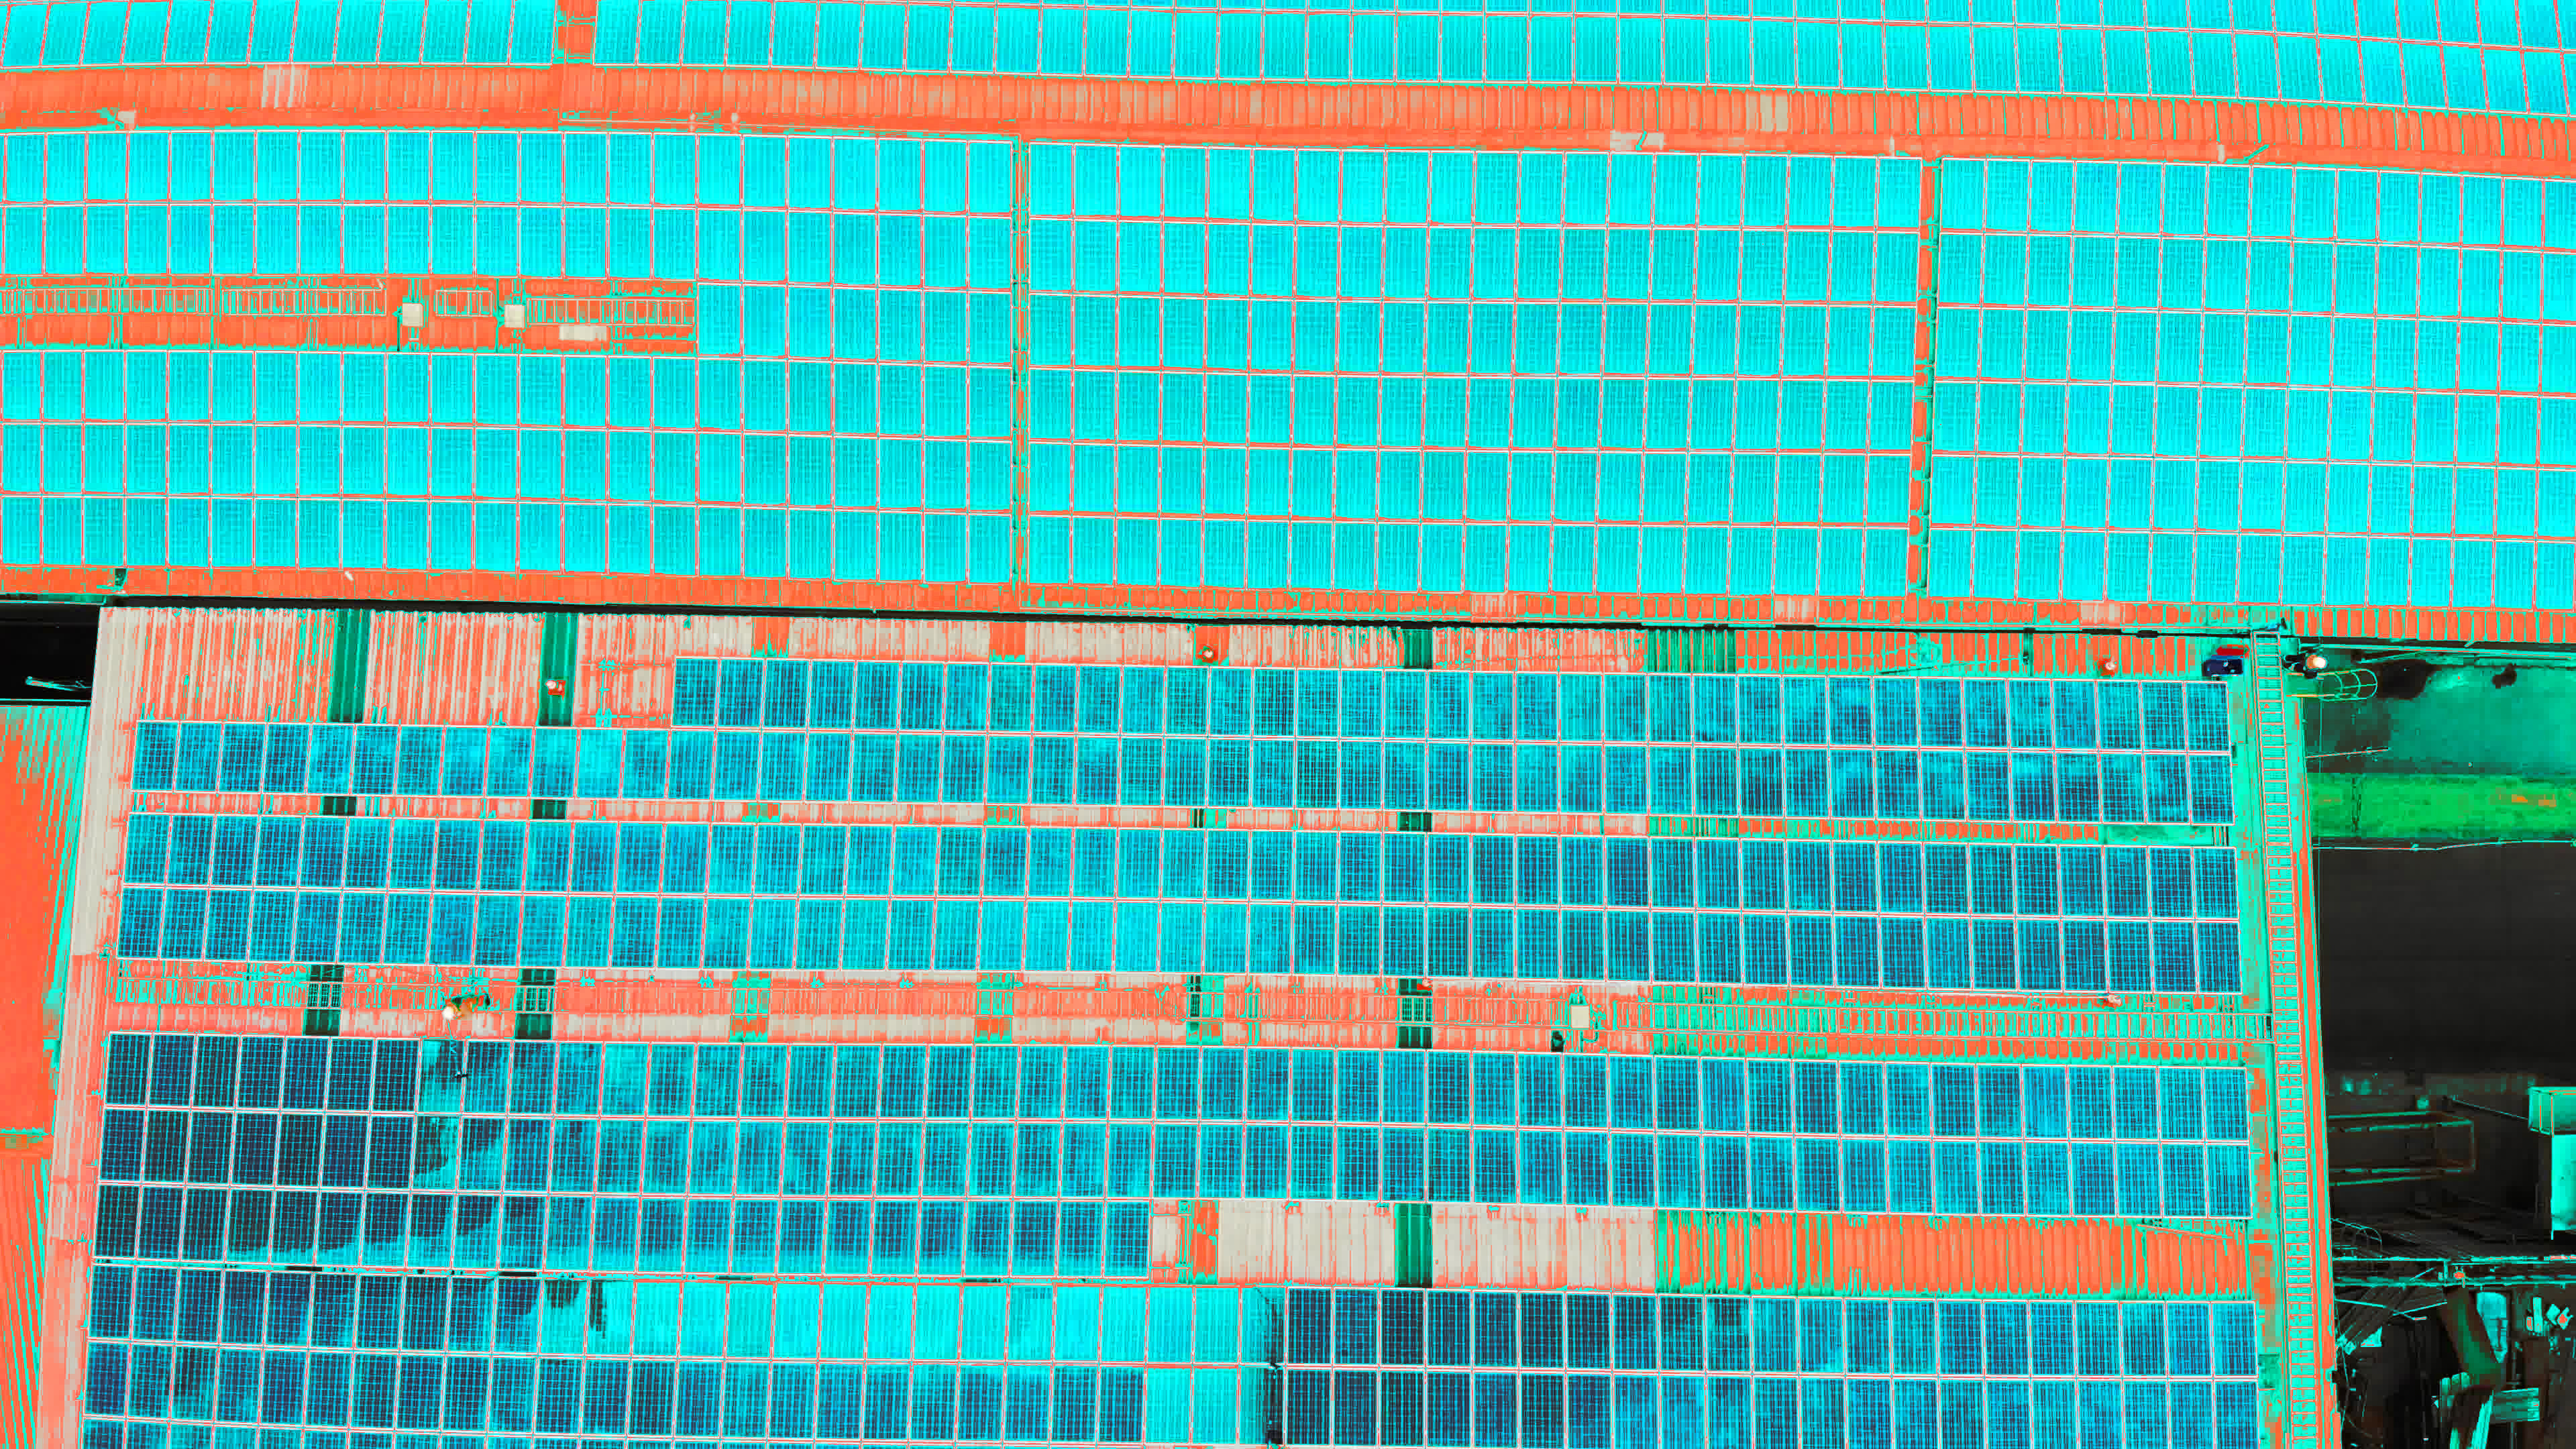clean: (1426, 1293, 1470, 1368), (1380, 1292, 1424, 1366), (1288, 1290, 1332, 1364), (1566, 1375, 1610, 1449), (359, 1277, 403, 1352), (179, 1269, 223, 1343), (133, 1263, 177, 1338), (138, 1185, 182, 1260), (1428, 1373, 1472, 1445), (101, 1108, 145, 1180), (320, 1113, 364, 1185), (1661, 1297, 1704, 1371), (1568, 1295, 1610, 1369), (1520, 1293, 1562, 1368), (1334, 1371, 1376, 1445), (1474, 1373, 1516, 1447), (1522, 1375, 1564, 1449), (1288, 1369, 1330, 1444), (400, 1355, 442, 1430), (354, 1355, 396, 1430), (308, 1352, 350, 1426), (260, 1350, 303, 1424), (129, 1345, 172, 1419), (310, 1276, 352, 1350), (269, 1274, 311, 1348), (223, 1270, 265, 1345), (92, 1263, 134, 1338), (361, 1191, 403, 1265), (313, 1191, 356, 1265), (271, 1189, 313, 1263), (226, 1191, 269, 1265), (225, 1189, 267, 1263), (96, 1182, 138, 1256), (278, 1111, 320, 1185), (373, 1039, 416, 1113), (368, 1111, 410, 1185), (327, 1037, 370, 1111), (285, 1035, 327, 1109), (147, 1033, 189, 1108), (106, 1031, 149, 1106), (1614, 1299, 1656, 1371), (1472, 1293, 1514, 1366), (1338, 1290, 1380, 1362), (1380, 1373, 1422, 1445), (87, 1341, 129, 1414), (405, 1277, 448, 1350), (180, 1187, 223, 1260), (145, 1109, 188, 1182), (193, 1111, 235, 1184), (235, 1109, 278, 1182), (239, 1033, 281, 1106), (195, 1031, 237, 1104)
dirty: (632, 1279, 679, 1357), (913, 1286, 961, 1362), (865, 1286, 913, 1362), (819, 1283, 867, 1359), (773, 1281, 821, 1357), (722, 1281, 770, 1357), (679, 1283, 727, 1359), (538, 1277, 586, 1353), (589, 1277, 635, 1355), (980, 897, 1024, 971), (1240, 1288, 1284, 1362), (1146, 1290, 1191, 1364), (616, 821, 660, 895), (483, 817, 527, 892), (299, 816, 343, 890), (122, 814, 166, 888), (522, 893, 566, 968), (205, 886, 249, 961), (161, 888, 205, 962), (1024, 899, 1069, 971), (931, 899, 975, 971), (1240, 1371, 1284, 1444), (1191, 1369, 1235, 1442), (1008, 1288, 1053, 1361), (166, 814, 211, 886), (1203, 901, 1246, 975), (1159, 899, 1201, 973), (1115, 897, 1157, 971), (1072, 899, 1115, 973), (890, 897, 932, 971), (842, 897, 885, 971), (892, 828, 934, 902), (752, 895, 794, 970), (708, 895, 750, 970), (1146, 1369, 1189, 1444), (1194, 1292, 1237, 1366), (1102, 1288, 1145, 1362), (1056, 1292, 1099, 1366), (962, 1288, 1005, 1362), (709, 824, 752, 899), (662, 824, 704, 899), (568, 821, 610, 895), (527, 817, 570, 892), (435, 817, 478, 892), (391, 817, 433, 892), (349, 816, 391, 890), (257, 816, 299, 890), (616, 895, 658, 970), (568, 892, 610, 966), (476, 892, 518, 966), (341, 890, 384, 964), (299, 892, 341, 966), (255, 892, 297, 966), (122, 886, 165, 961), (1985, 157, 2029, 228), (1511, 377, 1555, 448), (924, 216, 968, 287), (430, 499, 474, 570), (798, 899, 840, 971), (211, 814, 253, 886), (656, 897, 699, 970), (432, 892, 474, 964), (386, 893, 428, 966), (2459, 177, 2503, 246), (2376, 172, 2420, 241), (2118, 165, 2162, 234), (2374, 244, 2419, 313), (2291, 242, 2335, 311), (2249, 241, 2293, 310), (2204, 239, 2249, 308), (2116, 235, 2160, 304), (2371, 318, 2415, 387), (2201, 313, 2245, 382), (1980, 306, 2024, 375), (1936, 308, 1980, 377), (2496, 395, 2541, 464), (2413, 391, 2457, 460), (2328, 391, 2373, 460), (2199, 387, 2243, 456), (2155, 386, 2199, 455), (2111, 386, 2155, 455), (2109, 458, 2153, 527), (2065, 456, 2109, 525), (1974, 531, 2019, 600), (2194, 533, 2238, 602), (2367, 538, 2411, 607), (1789, 157, 1833, 226), (1562, 154, 1606, 223), (1207, 150, 1251, 219), (1118, 147, 1162, 216), (1874, 232, 1918, 301), (1649, 230, 1693, 299), (1472, 226, 1516, 295), (1116, 223, 1161, 292), (1030, 219, 1074, 288), (1872, 306, 1916, 375), (1647, 303, 1691, 372), (1601, 304, 1645, 373), (1426, 303, 1470, 372), (1338, 303, 1382, 372), (1293, 303, 1338, 372), (1205, 299, 1249, 368), (1732, 379, 1776, 448), (1465, 379, 1509, 448), (1024, 370, 1069, 439), (1819, 455, 1863, 524), (1376, 449, 1421, 518), (1332, 448, 1376, 517), (1819, 529, 1863, 598), (1730, 527, 1775, 596), (1684, 525, 1729, 594), (1594, 525, 1638, 594), (1336, 518, 1380, 587), (1286, 520, 1330, 589), (1072, 513, 1116, 582), (1028, 513, 1072, 582), (922, 143, 966, 212), (784, 138, 828, 207), (697, 136, 741, 205), (433, 133, 478, 202), (299, 131, 343, 200), (964, 218, 1008, 287), (879, 216, 924, 285), (789, 214, 833, 283), (743, 212, 787, 281), (699, 211, 743, 280), (609, 209, 653, 278), (430, 205, 474, 274), (386, 207, 430, 276), (126, 205, 170, 274), (0, 203, 44, 272), (927, 292, 971, 361), (789, 288, 833, 357), (745, 287, 789, 356), (791, 363, 835, 432), (653, 359, 697, 428), (609, 357, 653, 426), (564, 356, 609, 425), (472, 356, 517, 425), (211, 350, 255, 419), (126, 349, 170, 418), (833, 437, 878, 506), (743, 433, 787, 502), (699, 433, 743, 502), (564, 428, 609, 497), (518, 430, 563, 499), (386, 426, 430, 495), (341, 426, 386, 495), (126, 425, 170, 494), (971, 517, 1016, 586), (879, 515, 924, 584), (609, 506, 653, 575), (563, 506, 607, 575), (518, 504, 563, 573), (472, 501, 517, 570), (297, 497, 341, 566), (122, 494, 166, 563), (1748, 19, 1794, 85), (2029, 157, 2072, 228), (2415, 318, 2457, 389), (2289, 313, 2332, 384), (2242, 460, 2284, 531), (2491, 538, 2534, 609), (1474, 152, 1516, 223), (738, 138, 780, 209), (478, 133, 520, 203), (970, 441, 1012, 511), (787, 435, 830, 506), (2502, 179, 2544, 248), (2420, 172, 2463, 241), (2337, 170, 2380, 239), (2293, 168, 2335, 237), (2250, 166, 2293, 235), (2249, 166, 2291, 235), (2206, 165, 2249, 234), (2164, 165, 2206, 234), (2075, 161, 2118, 230), (1939, 159, 1982, 228), (2500, 249, 2542, 318), (2461, 248, 2503, 317), (2417, 246, 2459, 315), (2334, 242, 2376, 311), (2162, 237, 2204, 306), (2074, 237, 2116, 306), (2029, 234, 2072, 303), (1985, 234, 2028, 303), (1937, 234, 1980, 303), (2498, 322, 2541, 391), (2456, 320, 2498, 389), (2330, 318, 2373, 387), (2245, 313, 2288, 382), (2158, 313, 2201, 382), (2112, 310, 2155, 379), (2070, 310, 2112, 379), (2024, 308, 2066, 377), (2456, 395, 2498, 464), (2371, 393, 2413, 462), (2286, 393, 2328, 462), (2243, 389, 2286, 458), (2066, 386, 2109, 455), (2024, 386, 2066, 455), (1978, 384, 2020, 453), (1936, 382, 1978, 451), (2495, 467, 2537, 536), (2454, 465, 2496, 534), (2411, 464, 2454, 533), (2369, 464, 2411, 533), (2327, 464, 2369, 533), (2284, 462, 2327, 531), (2196, 460, 2238, 529), (2155, 460, 2197, 529), (2020, 456, 2063, 525), (1976, 455, 2019, 524), (1932, 453, 1974, 522), (1928, 529, 1971, 598), (2019, 531, 2061, 600), (2061, 531, 2104, 600), (2109, 533, 2151, 602), (2150, 533, 2192, 602), (2238, 534, 2281, 603), (2281, 534, 2323, 603), (2325, 536, 2367, 605), (2410, 536, 2452, 605), (2450, 538, 2493, 607), (1877, 159, 1920, 228), (1833, 157, 1875, 226), (1744, 157, 1787, 226), (1700, 156, 1743, 225), (1654, 154, 1697, 223), (1608, 154, 1651, 223), (1518, 154, 1560, 223), (1431, 154, 1474, 223), (1384, 152, 1426, 221), (1341, 152, 1384, 221), (1299, 152, 1341, 221), (1254, 152, 1297, 221), (1161, 147, 1203, 216), (1076, 145, 1118, 214), (1026, 145, 1069, 214), (1829, 234, 1872, 303), (1787, 234, 1829, 303), (1743, 230, 1785, 299), (1697, 234, 1739, 303), (1605, 232, 1647, 301), (1560, 230, 1603, 299), (1518, 228, 1560, 297), (1426, 228, 1468, 297), (1384, 228, 1426, 297), (1341, 228, 1384, 297), (1297, 230, 1339, 299), (1249, 225, 1292, 294), (1205, 223, 1247, 292), (1164, 225, 1207, 294), (1076, 219, 1118, 288), (1829, 304, 1872, 373), (1783, 303, 1826, 372), (1739, 308, 1782, 377), (1693, 304, 1736, 373), (1560, 304, 1603, 373), (1516, 304, 1559, 373), (1474, 303, 1516, 372), (1382, 303, 1424, 372), (1251, 301, 1293, 370), (1164, 299, 1207, 368), (1118, 297, 1161, 366), (1072, 297, 1115, 366), (1030, 295, 1072, 364), (1870, 382, 1913, 451), (1822, 380, 1865, 449), (1778, 380, 1821, 449), (1690, 380, 1732, 449), (1644, 379, 1686, 448), (1599, 379, 1642, 448), (1555, 379, 1598, 448), (1421, 377, 1463, 446), (1380, 379, 1422, 448), (1336, 375, 1378, 444), (1292, 373, 1334, 442), (1249, 375, 1292, 444), (1203, 370, 1246, 439), (1159, 373, 1201, 442), (1116, 372, 1159, 441), (1072, 372, 1115, 441), (1867, 455, 1909, 524), (1780, 456, 1822, 525), (1732, 455, 1775, 524), (1686, 451, 1729, 520), (1640, 453, 1683, 522), (1598, 451, 1640, 520), (1550, 453, 1592, 522), (1507, 451, 1550, 520), (1461, 449, 1504, 518), (1419, 449, 1461, 518), (1292, 448, 1334, 517), (1249, 446, 1292, 515), (1205, 446, 1247, 515), (1159, 444, 1201, 513), (1074, 444, 1116, 513), (1115, 444, 1157, 513), (1028, 442, 1070, 511), (1863, 524, 1905, 593), (1775, 527, 1817, 596), (1640, 525, 1683, 594), (1553, 525, 1596, 594), (1507, 524, 1550, 593), (1465, 522, 1507, 591), (1421, 524, 1463, 593), (1378, 524, 1421, 593), (1246, 517, 1288, 586), (1201, 518, 1244, 587), (1161, 517, 1203, 586), (1116, 517, 1159, 586), (966, 145, 1008, 214), (879, 142, 922, 211), (832, 140, 874, 209), (694, 136, 736, 205), (651, 138, 694, 207), (610, 136, 653, 205), (563, 136, 605, 205), (520, 134, 563, 203), (389, 131, 432, 200), (345, 131, 387, 200), (257, 131, 299, 200), (212, 133, 255, 202), (170, 131, 212, 200), (124, 131, 166, 200), (87, 131, 129, 200), (46, 131, 88, 200), (4, 131, 46, 200), (835, 214, 878, 283), (655, 209, 697, 278), (566, 207, 609, 276), (520, 205, 563, 274), (476, 203, 518, 272), (345, 205, 387, 274), (301, 203, 343, 272), (257, 203, 299, 272), (211, 203, 253, 272), (172, 202, 214, 271), (87, 203, 129, 272), (44, 203, 87, 272), (971, 294, 1014, 363), (881, 292, 924, 361), (835, 290, 878, 359), (699, 287, 741, 356), (971, 368, 1014, 437), (929, 366, 971, 435), (883, 366, 925, 435), (839, 364, 881, 433), (745, 361, 787, 430), (704, 361, 747, 430), (518, 356, 561, 425), (432, 354, 474, 423), (387, 352, 430, 421), (341, 350, 384, 419), (299, 352, 341, 421), (255, 352, 297, 421), (168, 350, 211, 419), (81, 350, 124, 419), (42, 350, 85, 419), (0, 350, 42, 419), (924, 441, 966, 510), (878, 439, 920, 508), (655, 432, 697, 501), (610, 430, 653, 499), (474, 430, 517, 499), (432, 428, 474, 497), (301, 425, 343, 494), (257, 423, 299, 492), (211, 425, 253, 494), (170, 425, 212, 494), (83, 423, 126, 492), (42, 423, 85, 492), (0, 423, 42, 492), (927, 517, 970, 586), (835, 513, 878, 582), (787, 511, 830, 580), (747, 511, 789, 580), (701, 510, 743, 579), (655, 508, 697, 577), (474, 502, 517, 571), (387, 499, 430, 568), (341, 497, 384, 566), (255, 497, 297, 566), (211, 497, 253, 566), (170, 495, 212, 564), (83, 494, 126, 563), (41, 494, 83, 563), (0, 495, 42, 564), (2523, 50, 2567, 115), (2482, 48, 2526, 113), (2443, 44, 2488, 110), (2360, 42, 2404, 108), (2275, 37, 2319, 103), (2235, 35, 2279, 101), (2190, 34, 2235, 99), (2148, 30, 2192, 96), (2059, 28, 2104, 94), (2015, 27, 2059, 92), (1973, 27, 2017, 92), (1925, 25, 1969, 90), (1884, 25, 1928, 90), (1660, 16, 1704, 81), (1619, 16, 1663, 81), (1575, 16, 1619, 81), (1529, 16, 1573, 81), (1484, 16, 1529, 81), (1438, 14, 1483, 80), (1396, 14, 1440, 80), (1306, 14, 1350, 80), (1258, 12, 1302, 78), (1215, 12, 1260, 78), (1127, 12, 1171, 78), (1083, 9, 1127, 74), (1040, 9, 1085, 74), (952, 7, 996, 73), (908, 5, 952, 71), (862, 4, 906, 69), (771, 2, 816, 67), (729, 0, 773, 65), (685, 2, 729, 67), (639, 0, 683, 65), (594, 2, 639, 67), (510, 0, 554, 65), (469, 2, 513, 67), (423, 0, 467, 65), (380, 2, 425, 67), (336, 0, 380, 65), (295, 2, 340, 67), (251, 0, 295, 65), (209, 2, 253, 67), (165, 0, 209, 65), (124, 2, 168, 67), (87, 0, 131, 65), (44, 2, 88, 67), (4, 4, 48, 69), (2403, 44, 2447, 108), (2319, 39, 2364, 103), (2104, 30, 2148, 94), (1838, 25, 1882, 88), (1796, 23, 1840, 87), (1707, 19, 1752, 83), (1352, 14, 1396, 78), (1175, 14, 1219, 78), (996, 9, 1040, 73), (819, 4, 863, 67), (2537, 467, 2574, 540), (2539, 541, 2574, 610), (2542, 251, 2576, 322), (2542, 324, 2576, 395), (2541, 395, 2574, 465), (2546, 184, 2576, 248)
semi: (2183, 681, 2229, 755), (2010, 676, 2056, 750), (1966, 674, 2012, 748), (1920, 674, 1966, 748), (1741, 669, 1787, 743), (1514, 669, 1560, 743), (1123, 662, 1169, 736), (945, 658, 991, 732), (676, 653, 722, 727), (1875, 674, 1921, 747), (1831, 672, 1877, 745), (1787, 671, 1833, 743), (1693, 669, 1739, 741), (1605, 672, 1651, 745), (1560, 671, 1606, 743), (1384, 669, 1430, 741), (1343, 667, 1389, 740), (1300, 665, 1346, 738), (1210, 663, 1256, 736), (1162, 663, 1208, 736), (899, 658, 945, 731), (810, 656, 856, 729), (766, 656, 812, 729), (2143, 679, 2187, 754), (1430, 667, 1474, 741), (858, 656, 902, 731), (2112, 1065, 2157, 1139), (1893, 1300, 1937, 1375), (1799, 1375, 1844, 1449), (1976, 1067, 2020, 1141), (1930, 1065, 1974, 1139), (1796, 1058, 1840, 1132), (1336, 1049, 1380, 1123), (2024, 1143, 2068, 1217), (1930, 1141, 1974, 1215), (1660, 1136, 1704, 1210), (1610, 1132, 1654, 1207), (1380, 1125, 1424, 1200), (1743, 837, 1787, 911), (1560, 833, 1605, 908), (1338, 830, 1382, 904), (1028, 826, 1072, 901), (2015, 916, 2059, 991), (1785, 915, 1829, 989), (1424, 908, 1468, 982), (1376, 904, 1421, 978), (1155, 1047, 1200, 1122), (1063, 1046, 1108, 1120), (927, 1044, 971, 1118), (833, 1044, 878, 1118), (786, 1040, 830, 1115), (1244, 1123, 1288, 1198), (971, 1123, 1016, 1198), (922, 1122, 966, 1196), (596, 1116, 640, 1191), (1010, 1198, 1054, 1272), (966, 1200, 1010, 1274), (918, 1200, 962, 1274), (731, 1198, 775, 1272), (591, 1194, 635, 1269), (497, 1194, 541, 1269), (582, 1357, 626, 1431), (464, 1042, 508, 1116), (455, 1196, 499, 1270), (2098, 679, 2143, 752), (2054, 678, 2098, 750), (1649, 674, 1693, 747), (1472, 669, 1516, 741), (1254, 665, 1299, 738), (1077, 663, 1122, 736), (1035, 662, 1079, 734), (991, 660, 1035, 732), (722, 655, 766, 727), (2162, 1143, 2206, 1215), (2104, 847, 2148, 920), (1707, 1375, 1752, 1447), (1840, 1065, 1884, 1138), (1980, 1143, 2024, 1215), (1426, 1129, 1470, 1201), (1292, 1127, 1336, 1200), (1606, 835, 1651, 908), (1474, 833, 1518, 906), (1472, 908, 1516, 980), (1293, 902, 1338, 975), (1247, 902, 1292, 975), (1247, 1051, 1292, 1123), (1200, 1123, 1244, 1196), (1097, 1368, 1141, 1440), (492, 1279, 536, 1352), (2160, 1067, 2203, 1141), (2150, 847, 2192, 922), (2107, 920, 2150, 994), (2120, 1302, 2162, 1376), (2075, 1302, 2118, 1376), (2029, 1302, 2072, 1376), (1983, 1304, 2026, 1378), (1847, 1300, 1890, 1375), (1799, 1299, 1842, 1373), (1753, 1300, 1796, 1375), (1706, 1299, 1748, 1373), (1290, 1292, 1332, 1366), (1614, 1375, 1656, 1449), (1661, 1375, 1704, 1449), (1757, 1375, 1799, 1449), (1851, 1375, 1893, 1449), (2066, 1065, 2109, 1139), (1886, 1063, 1928, 1138), (1748, 1058, 1790, 1132), (1654, 1058, 1697, 1132), (1564, 1056, 1606, 1131), (1518, 1054, 1560, 1129), (1474, 1053, 1516, 1127), (1380, 1051, 1422, 1125), (1890, 1139, 1932, 1214), (1842, 1139, 1884, 1214), (1792, 1138, 1835, 1212), (1750, 1136, 1792, 1210), (1706, 1136, 1748, 1210), (1564, 1132, 1606, 1207), (1518, 1129, 1560, 1203), (1334, 1125, 1376, 1200), (2059, 846, 2102, 920), (2013, 844, 2056, 918), (1971, 840, 2013, 915), (1879, 840, 1921, 915), (1787, 840, 1829, 915), (1695, 839, 1737, 913), (1649, 835, 1691, 909), (1428, 830, 1470, 904), (1384, 832, 1426, 906), (1295, 828, 1338, 902), (1249, 830, 1292, 904), (1164, 826, 1207, 901), (1030, 828, 1072, 902), (2063, 920, 2105, 994), (1969, 916, 2012, 991), (1877, 916, 1920, 991), (1831, 915, 1874, 989), (1739, 913, 1782, 987), (1698, 911, 1741, 985), (1603, 908, 1645, 982), (1562, 906, 1605, 980), (1516, 906, 1559, 980), (1334, 902, 1376, 977), (1295, 902, 1338, 977), (936, 826, 978, 901), (1201, 1049, 1244, 1123), (1111, 1047, 1154, 1122), (1017, 1046, 1060, 1120), (973, 1046, 1016, 1120), (881, 1044, 924, 1118), (646, 1044, 688, 1118), (602, 1040, 644, 1115), (1157, 1125, 1200, 1200), (1063, 1125, 1106, 1200), (1016, 1120, 1058, 1194), (874, 1122, 916, 1196), (835, 1123, 878, 1198), (786, 1120, 828, 1194), (738, 1122, 780, 1196), (694, 1122, 736, 1196), (648, 1118, 690, 1192), (1104, 1203, 1146, 1277), (1060, 1201, 1102, 1276), (872, 1196, 915, 1270), (778, 1200, 821, 1274), (685, 1194, 727, 1269), (639, 1196, 681, 1270), (552, 1118, 594, 1192), (1005, 1364, 1047, 1438), (959, 1362, 1001, 1437), (911, 1364, 954, 1438), (865, 1362, 908, 1437), (824, 1362, 867, 1437), (771, 1362, 814, 1437), (725, 1362, 768, 1437), (630, 1359, 672, 1433), (534, 1357, 577, 1431), (442, 1355, 485, 1430), (451, 1283, 494, 1357), (492, 1277, 534, 1352), (502, 1118, 545, 1192), (458, 1115, 501, 1189), (409, 1191, 451, 1265), (456, 1113, 499, 1187), (414, 1115, 456, 1189), (416, 1039, 458, 1113), (170, 1345, 212, 1419), (218, 1350, 260, 1424), (2155, 922, 2197, 994), (2116, 1143, 2158, 1215), (1937, 1302, 1980, 1375), (2024, 1069, 2066, 1141), (1706, 1058, 1748, 1131), (1612, 1058, 1654, 1131), (1426, 1051, 1468, 1123), (1292, 1051, 1334, 1123), (2068, 1143, 2111, 1215), (1472, 1129, 1514, 1201), (1923, 840, 1966, 913), (1835, 840, 1877, 913), (1516, 833, 1559, 906), (1207, 826, 1249, 899), (1118, 828, 1161, 901), (1077, 828, 1120, 901), (1925, 918, 1967, 991), (1651, 911, 1693, 984), (982, 828, 1024, 901), (741, 1044, 784, 1116), (694, 1047, 736, 1120), (1108, 1123, 1150, 1196), (826, 1200, 869, 1272), (556, 1047, 598, 1120), (1051, 1366, 1093, 1438), (676, 1361, 718, 1433), (488, 1357, 531, 1430), (511, 1040, 554, 1113), (416, 1040, 458, 1113), (1895, 1378, 1937, 1449), (1987, 1378, 2029, 1449), (2031, 1378, 2074, 1449), (2081, 1378, 2123, 1449), (2125, 1378, 2167, 1449), (1700, 747, 1743, 816), (1299, 741, 1341, 810), (1166, 740, 1208, 809), (671, 731, 713, 800), (133, 722, 175, 791), (2192, 847, 2235, 916), (2206, 1146, 2249, 1215), (2213, 1304, 2256, 1373), (1941, 1378, 1982, 1449), (2104, 754, 2146, 821), (2058, 754, 2100, 821), (1881, 748, 1923, 816), (1835, 747, 1877, 814), (1785, 748, 1828, 816), (1737, 748, 1780, 816), (1605, 745, 1647, 812), (1122, 740, 1164, 807), (991, 736, 1033, 803), (947, 734, 989, 801), (899, 736, 941, 803), (763, 732, 805, 800), (713, 729, 755, 796), (533, 731, 575, 798), (403, 727, 446, 794), (221, 725, 264, 793), (180, 724, 223, 791), (2169, 1382, 2212, 1449), (800, 824, 842, 892), (755, 826, 798, 893), (1971, 750, 2012, 819), (1520, 741, 1560, 810), (1476, 741, 1516, 810), (579, 731, 619, 800), (310, 725, 350, 794), (2190, 755, 2231, 823), (2148, 754, 2189, 821), (2015, 752, 2056, 819), (1927, 750, 1967, 817), (1652, 747, 1693, 814), (1560, 743, 1601, 810), (1433, 741, 1474, 809), (1385, 740, 1426, 807), (1345, 738, 1385, 805), (1253, 741, 1293, 809), (1214, 740, 1254, 807), (1077, 738, 1118, 805), (1033, 736, 1074, 803), (858, 734, 899, 801), (809, 732, 849, 800), (715, 731, 755, 798), (626, 732, 667, 800), (492, 729, 533, 796), (444, 729, 485, 796), (357, 727, 398, 794), (269, 725, 310, 793), (2199, 924, 2240, 991), (2204, 1070, 2245, 1138), (2215, 1382, 2256, 1449), (2167, 1304, 2208, 1371), (847, 826, 888, 893)
